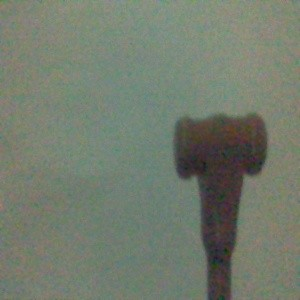palu: (173, 111, 269, 300)
